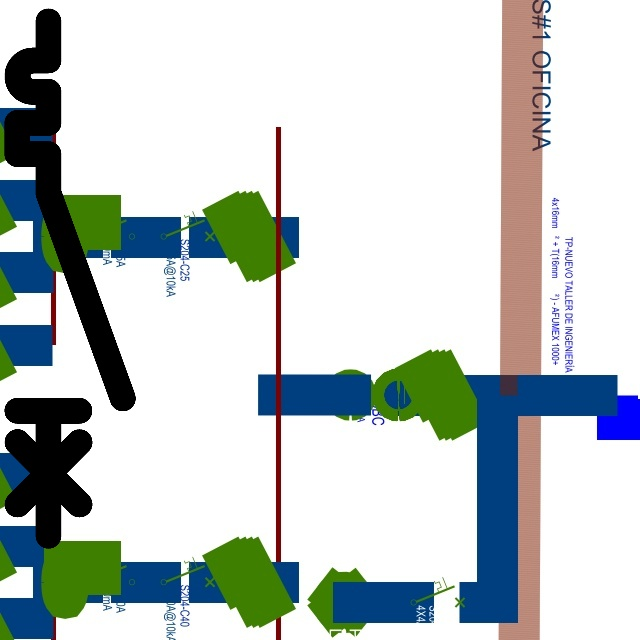interruptor_termomagnetico: (4, 8, 136, 548)
